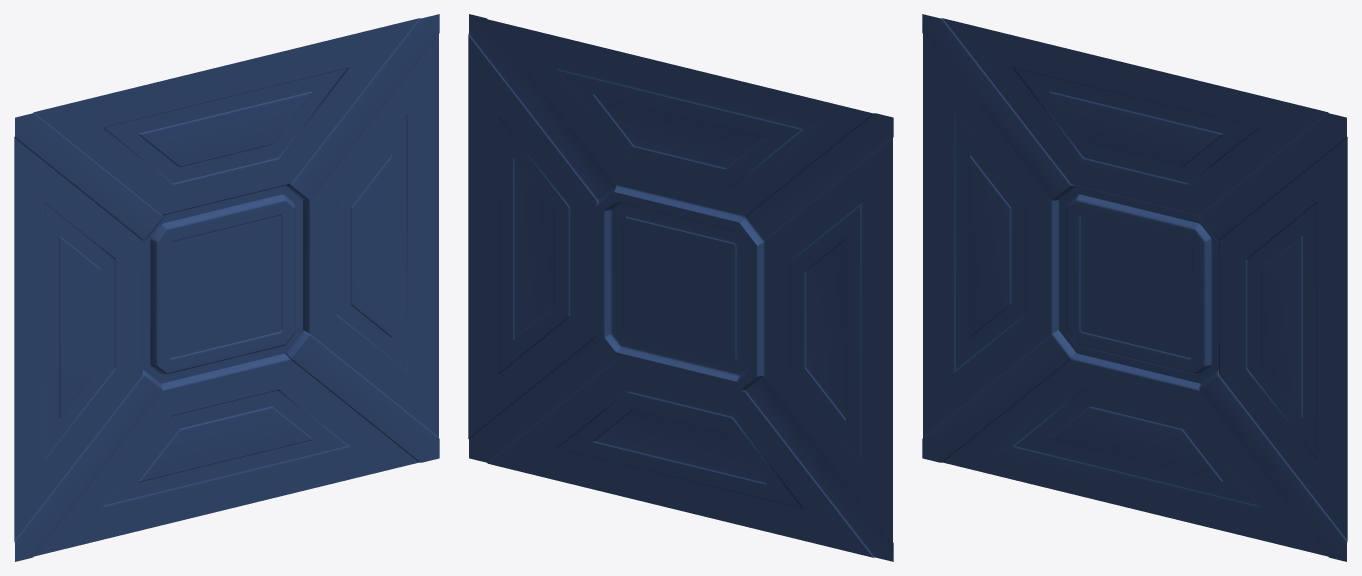
The model's file is wall.fbx.
The picture shows the model from 3 angles, left to right: view 1: azimuth 30°, elevation 25°; view 2: azimuth 150°, elevation 25°; view 3: azimuth 330°, elevation 25°; orthographic projection.
Parts seen in each view (by area): view 1: wall; view 2: wall; view 3: wall.
Boxes of the visible parts, <box> form: wall: <box>14,14,439,561</box>; wall: <box>468,14,893,561</box>; wall: <box>922,14,1347,561</box>.
Size of the model in its own units: 306 by 306 by 6.01.
